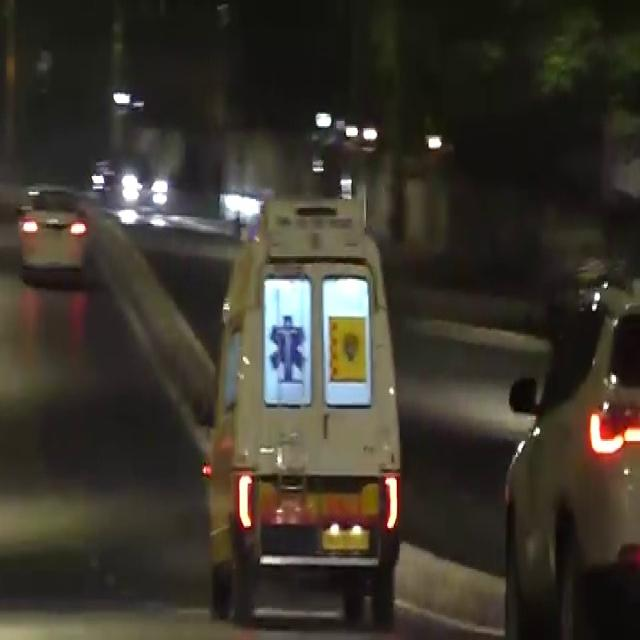ambulance: (170, 200, 446, 640)
